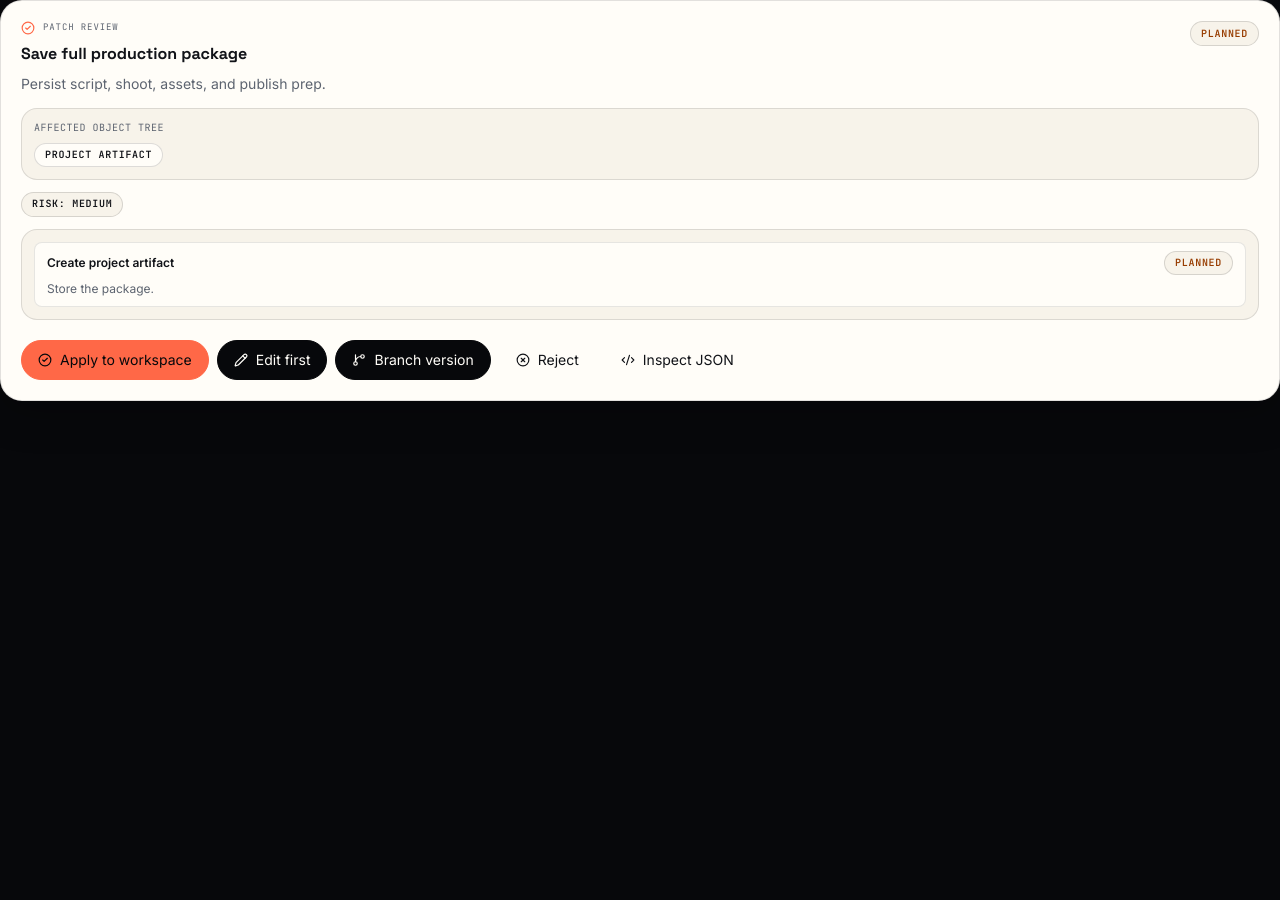
Test: SceneBook UI contract › planned patch review exposes trust-layer actions and JSON inspection
Check: the button "Apply to workspace" is shown, box x1=21 y1=340 x2=209 y2=380
Check: the button "Edit first" is shown, box x1=217 y1=340 x2=328 y2=380
Step 1. Click the button "Inspect JSON" → (677, 360), box x1=604 y1=340 x2=751 y2=380
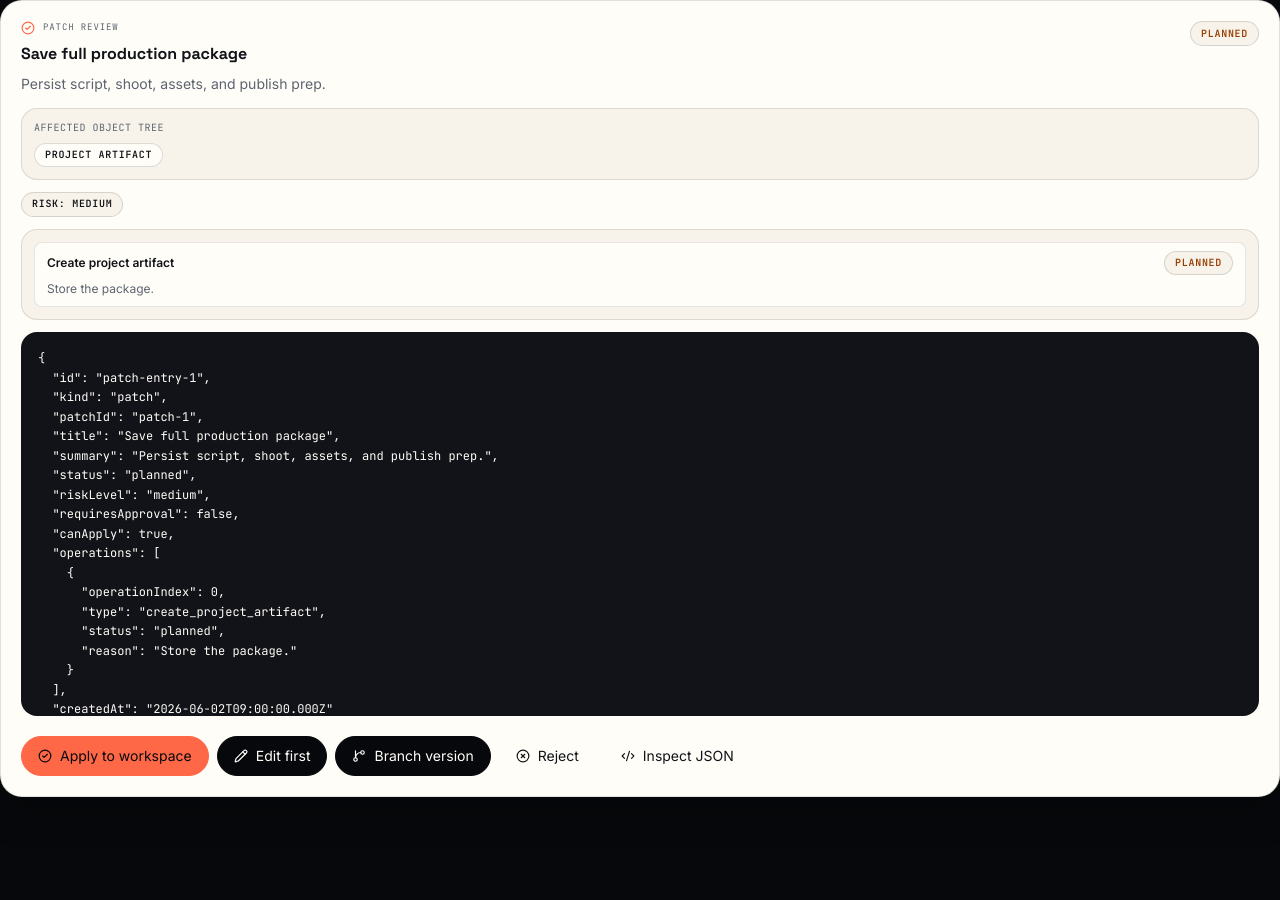
Check: the text "\"patchId\": \"patch-1\"" is shown, box x1=38 y1=350 x2=499 y2=737
